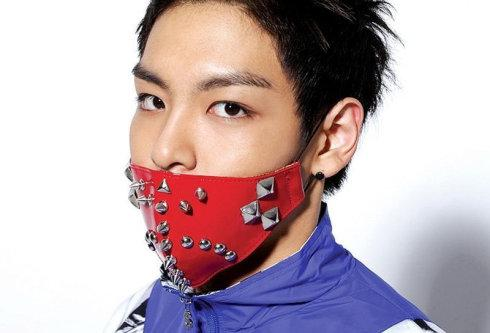WRONG: (117, 59, 329, 271)
